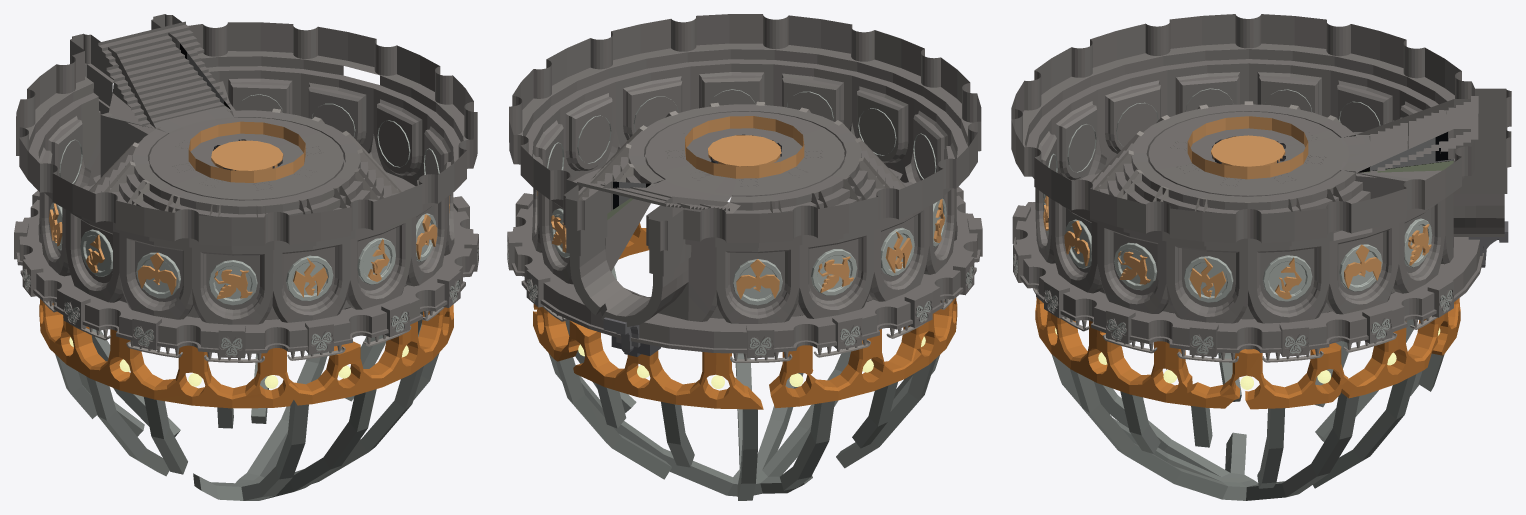
The model's file is Amphy.glb.
The picture shows the model from 3 angles, left to right: view 1: azimuth 30°, elevation 25°; view 2: azimuth 150°, elevation 25°; view 3: azimuth 270°, elevation 25°; orthographic projection. The views are drawn at different scales.
Visible parts, largest first — view 1: Vert.001; view 2: Vert.001; view 3: Vert.001.
Boxes of the visible parts, left/top/right/bottom form: Vert.001: left=14, top=14, right=478, bottom=500; Vert.001: left=507, top=14, right=982, bottom=500; Vert.001: left=1011, top=14, right=1511, bottom=500.
Bounding box in the file's own units: 20.52 × 18.37 × 21.7.
2 materials, 1 textured.
